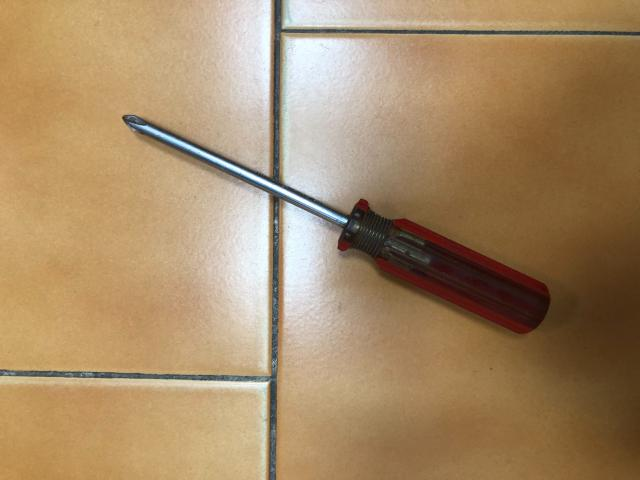Screwdriver: (164, 122, 365, 480)
